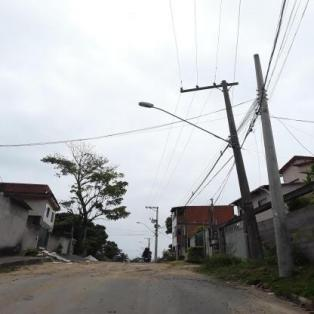Poste: (249, 50, 301, 278), (219, 79, 263, 261)
